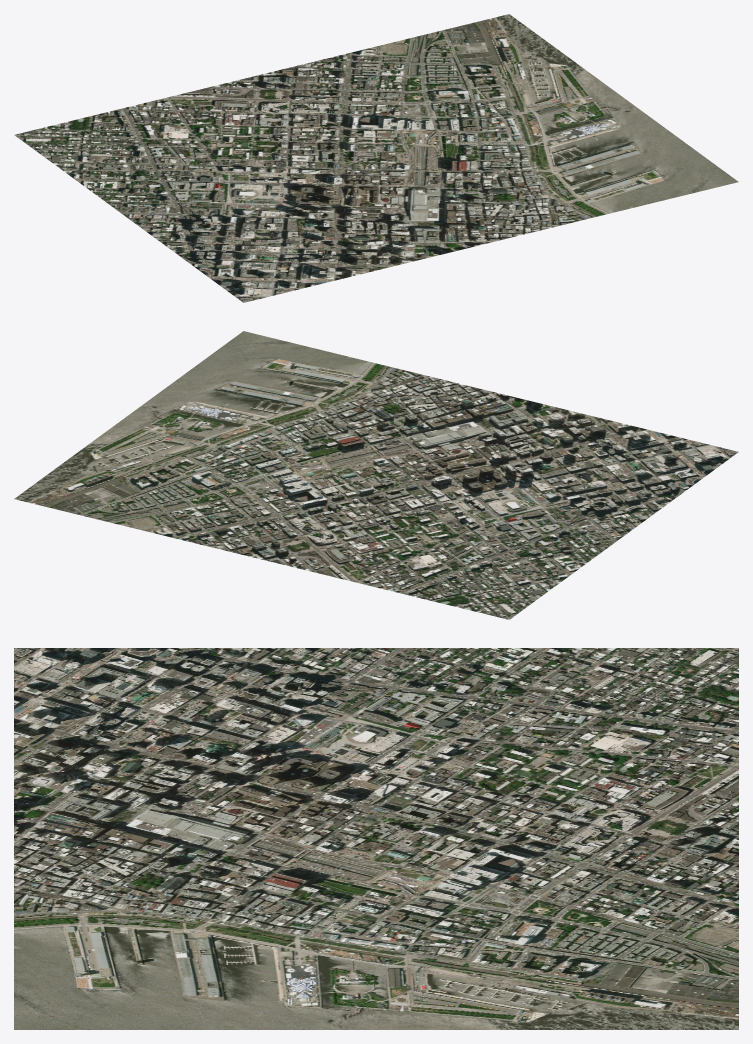
Rendered from groundv2-transformed.glb.
The picture shows the model from 3 angles, top to bottom: view 1: azimuth 30°, elevation 25°; view 2: azimuth 150°, elevation 25°; view 3: azimuth 270°, elevation 25°; orthographic projection. The views are drawn at different scales.
Visible parts, largest first — view 1: Terrain.001; view 2: Terrain.001; view 3: Terrain.001.
Part boxes in pixels (x1=…): Terrain.001: x1=14, y1=14, x2=738, y2=302; Terrain.001: x1=14, y1=331, x2=738, y2=619; Terrain.001: x1=14, y1=648, x2=738, y2=1029.
Size of the model in its own units: 2247 by 0 by 1803.
1 material, 1 textured.
